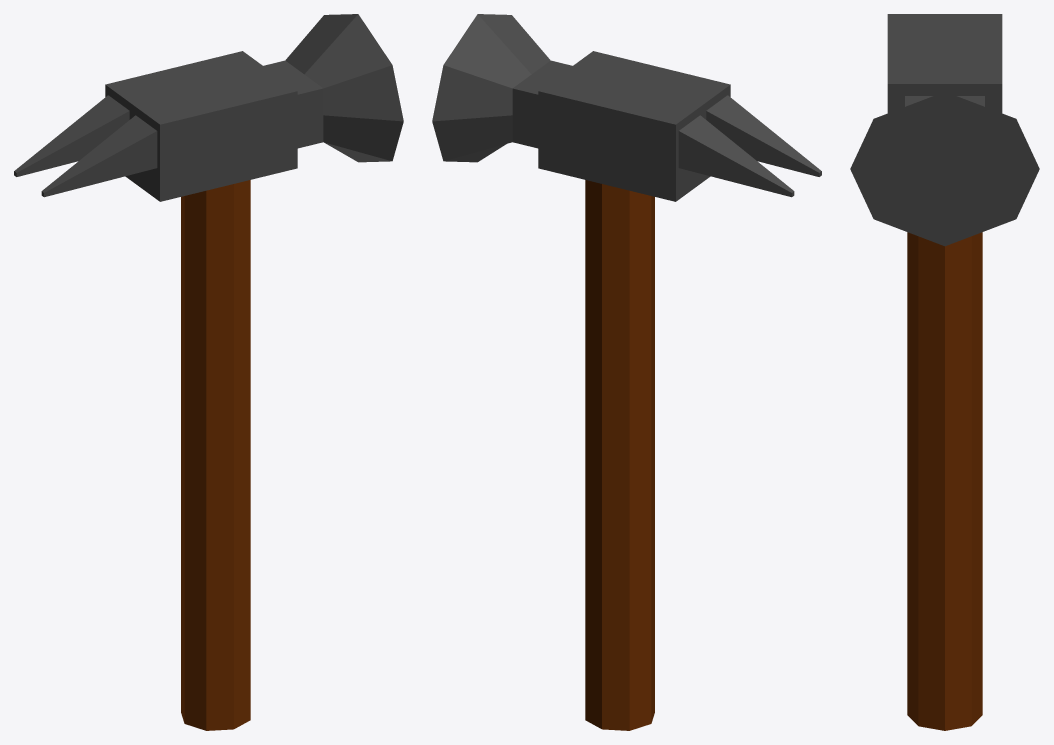
Rendered from Martillo.glb.
3 views of the same model, side by side, from view 1: azimuth 30°, elevation 25°; view 2: azimuth 150°, elevation 25°; view 3: azimuth 270°, elevation 25° (orthographic). The views are drawn at different scales.
Parts seen in each view (by area): view 1: Cube.001, Cube; view 2: Cube.001, Cube; view 3: Cube, Cube.001.
Part boxes in pixels (x1,y1,x2,y2): Cube.001: (14,14,403,201); Cube: (181,180,250,730); Cube.001: (432,14,821,201); Cube: (585,180,654,730); Cube: (907,232,982,730); Cube.001: (850,14,1039,246).
Bounding box in the file's own units: 2.7 × 5.22 × 1.29.
